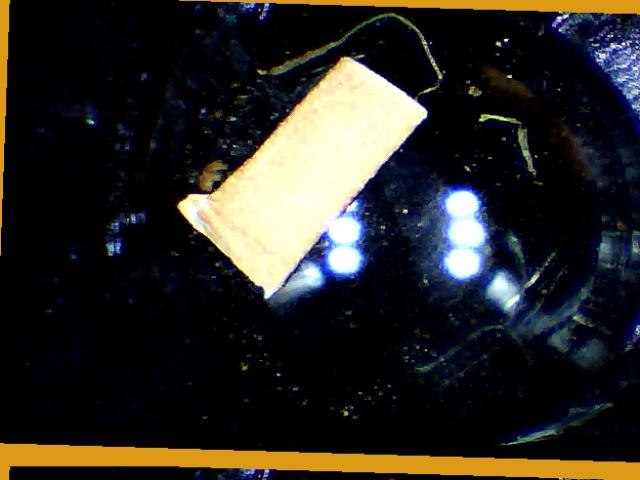megot: (162, 42, 469, 313)
